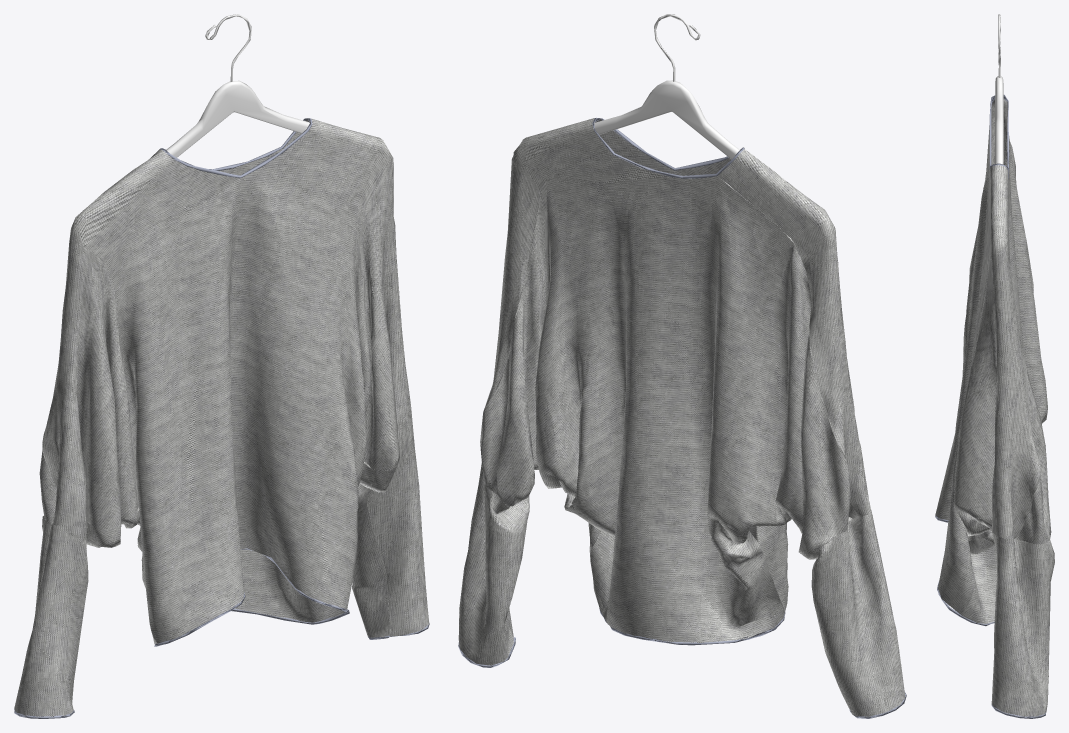
The model's file is fit-shirt.glb.
The picture shows the model from 3 angles, left to right: view 1: azimuth 30°, elevation 25°; view 2: azimuth 150°, elevation 25°; view 3: azimuth 270°, elevation 25°; orthographic projection. The views are drawn at different scales.
Bounding box in the file's own units: 52.97 × 80.56 × 14.1.
Materials: 4 (1 with a texture image).
